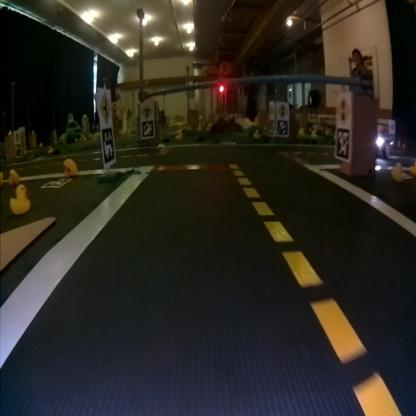Duckie: (11, 185, 31, 213), (64, 158, 78, 177), (393, 161, 405, 181), (8, 168, 21, 184)
Intersection sign: (101, 90, 112, 124), (141, 102, 154, 118)
QR code: (102, 126, 115, 166), (336, 128, 350, 158), (44, 178, 68, 188), (142, 120, 154, 138), (278, 119, 289, 135)
Signal sign: (338, 94, 352, 124), (278, 102, 289, 118)
Traffic light: (220, 82, 226, 92)
